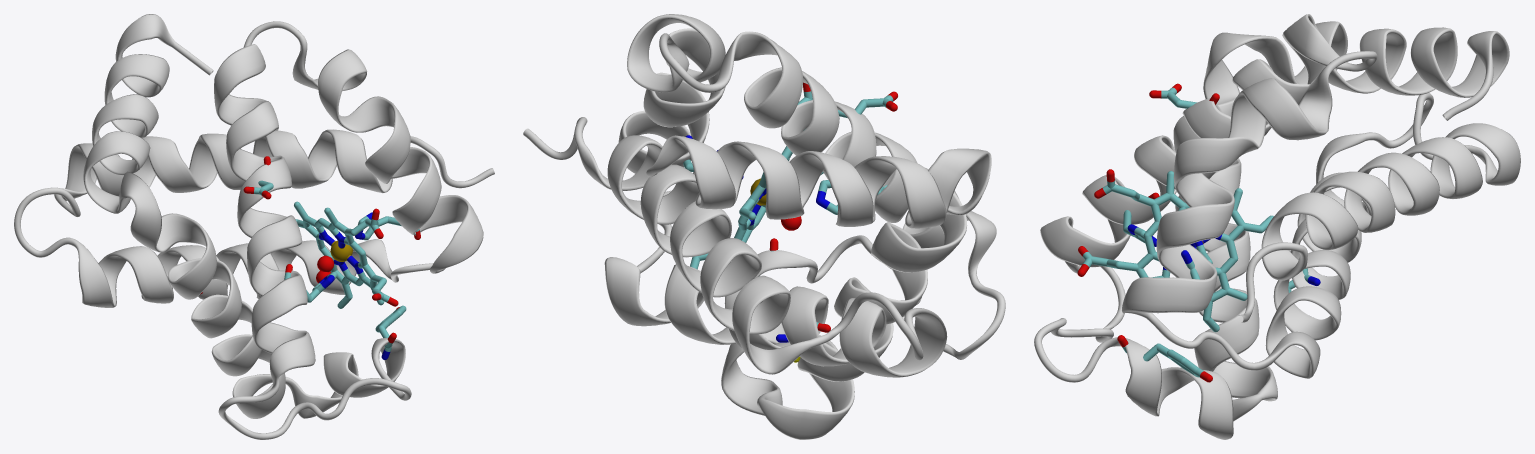
File: frame29.gltf
3 renders of one model, left to right at view 1: azimuth 30°, elevation 25°; view 2: azimuth 150°, elevation 25°; view 3: azimuth 270°, elevation 25°, orthographic. The views are drawn at different scales.
Visible parts, largest first — view 1: vmd_mol29_rep3, vmd_mol29_rep2, vmd_mol29_rep1; view 2: vmd_mol29_rep3, vmd_mol29_rep1, vmd_mol29_rep2; view 3: vmd_mol29_rep3, vmd_mol29_rep2, vmd_mol29_rep1.
Part boxes in pixels (x1=…): vmd_mol29_rep3: x1=14, y1=14, x2=494, y2=439; vmd_mol29_rep2: x1=294, y1=201, x2=398, y2=308; vmd_mol29_rep1: x1=200, y1=156, x2=420, y2=359; vmd_mol29_rep3: x1=523, y1=14, x2=1005, y2=439; vmd_mol29_rep1: x1=683, y1=91, x2=897, y2=362; vmd_mol29_rep2: x1=734, y1=82, x2=823, y2=242; vmd_mol29_rep3: x1=1034, y1=14, x2=1520, y2=439; vmd_mol29_rep2: x1=1077, y1=169, x2=1273, y2=332; vmd_mol29_rep1: x1=1117, y1=83, x2=1320, y2=382.
Bounding box in the file's own units: 1.41 × 1.17 × 1.28.
